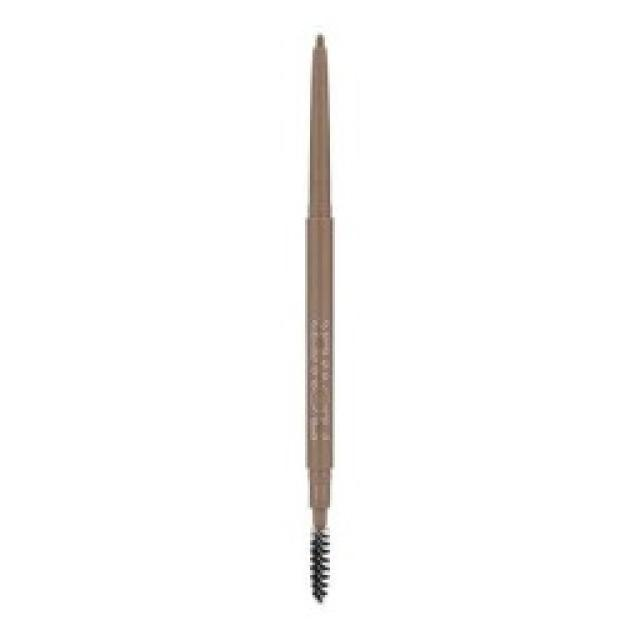pencil: (300, 30, 338, 602)
